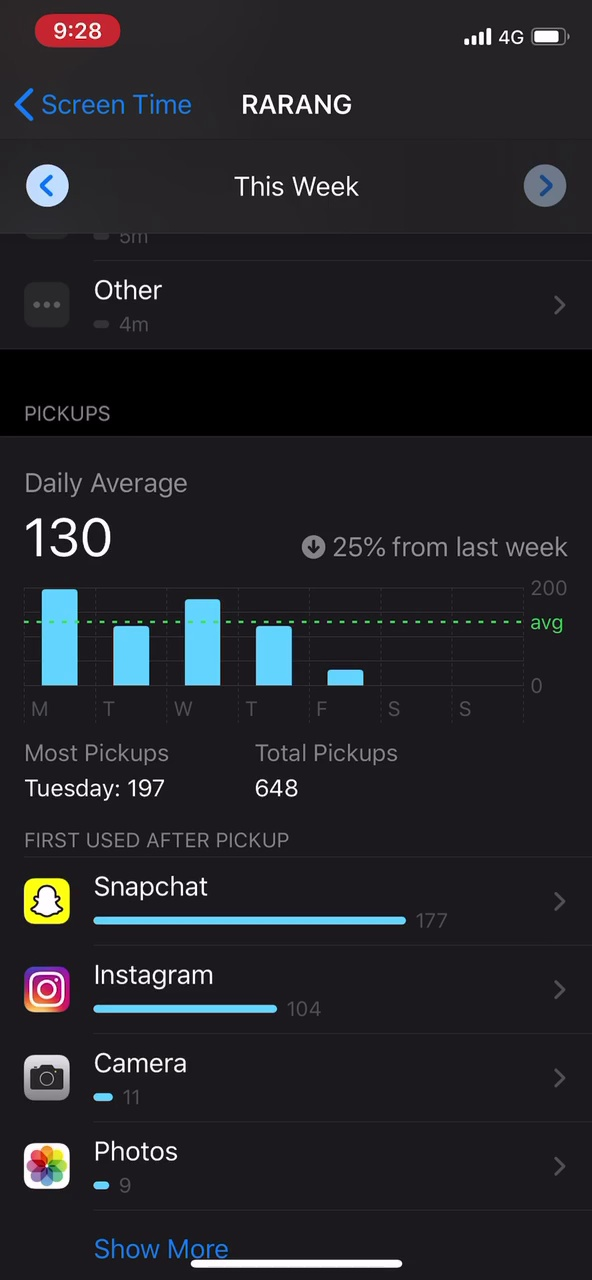pick_app: (7, 866, 476, 948), (4, 958, 343, 1032), (1, 1128, 243, 1205), (4, 1042, 217, 1121)
pick_over: (12, 733, 456, 822)
week: (223, 163, 368, 209)
